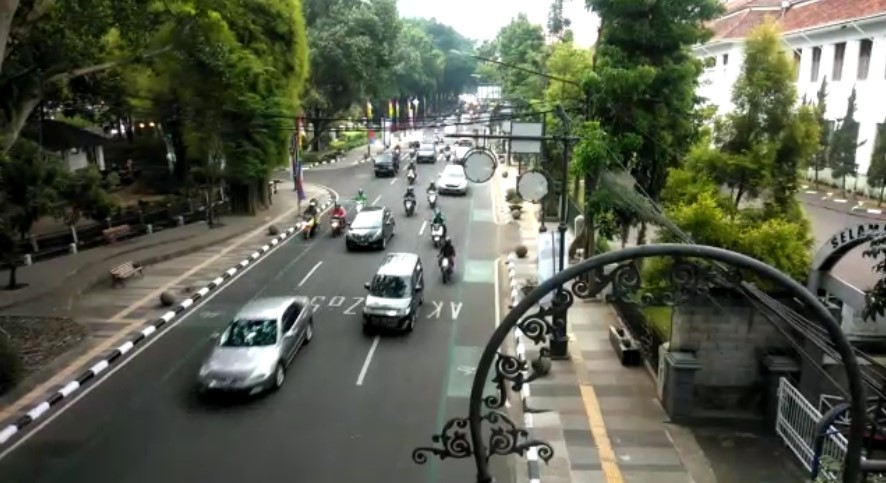mobil: (194, 292, 318, 399), (365, 250, 424, 337), (344, 210, 395, 250)
motor: (436, 241, 461, 290), (300, 199, 320, 242), (429, 212, 449, 244), (400, 188, 418, 217), (327, 201, 343, 233)
